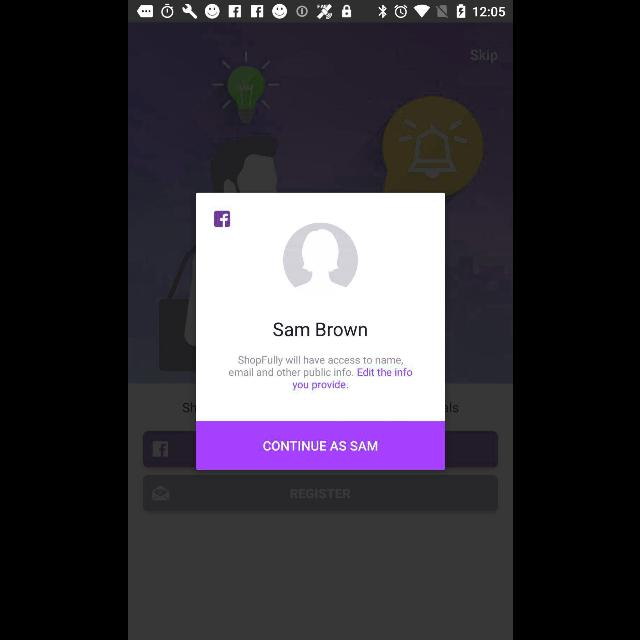icon: (282, 222, 358, 288), (213, 210, 230, 228)
panel: (195, 192, 445, 470)
text: (228, 356, 412, 390), (272, 322, 366, 336), (469, 49, 497, 63)
textbutton: (196, 422, 444, 470)
uppertaskbar: (128, 1, 512, 23)
